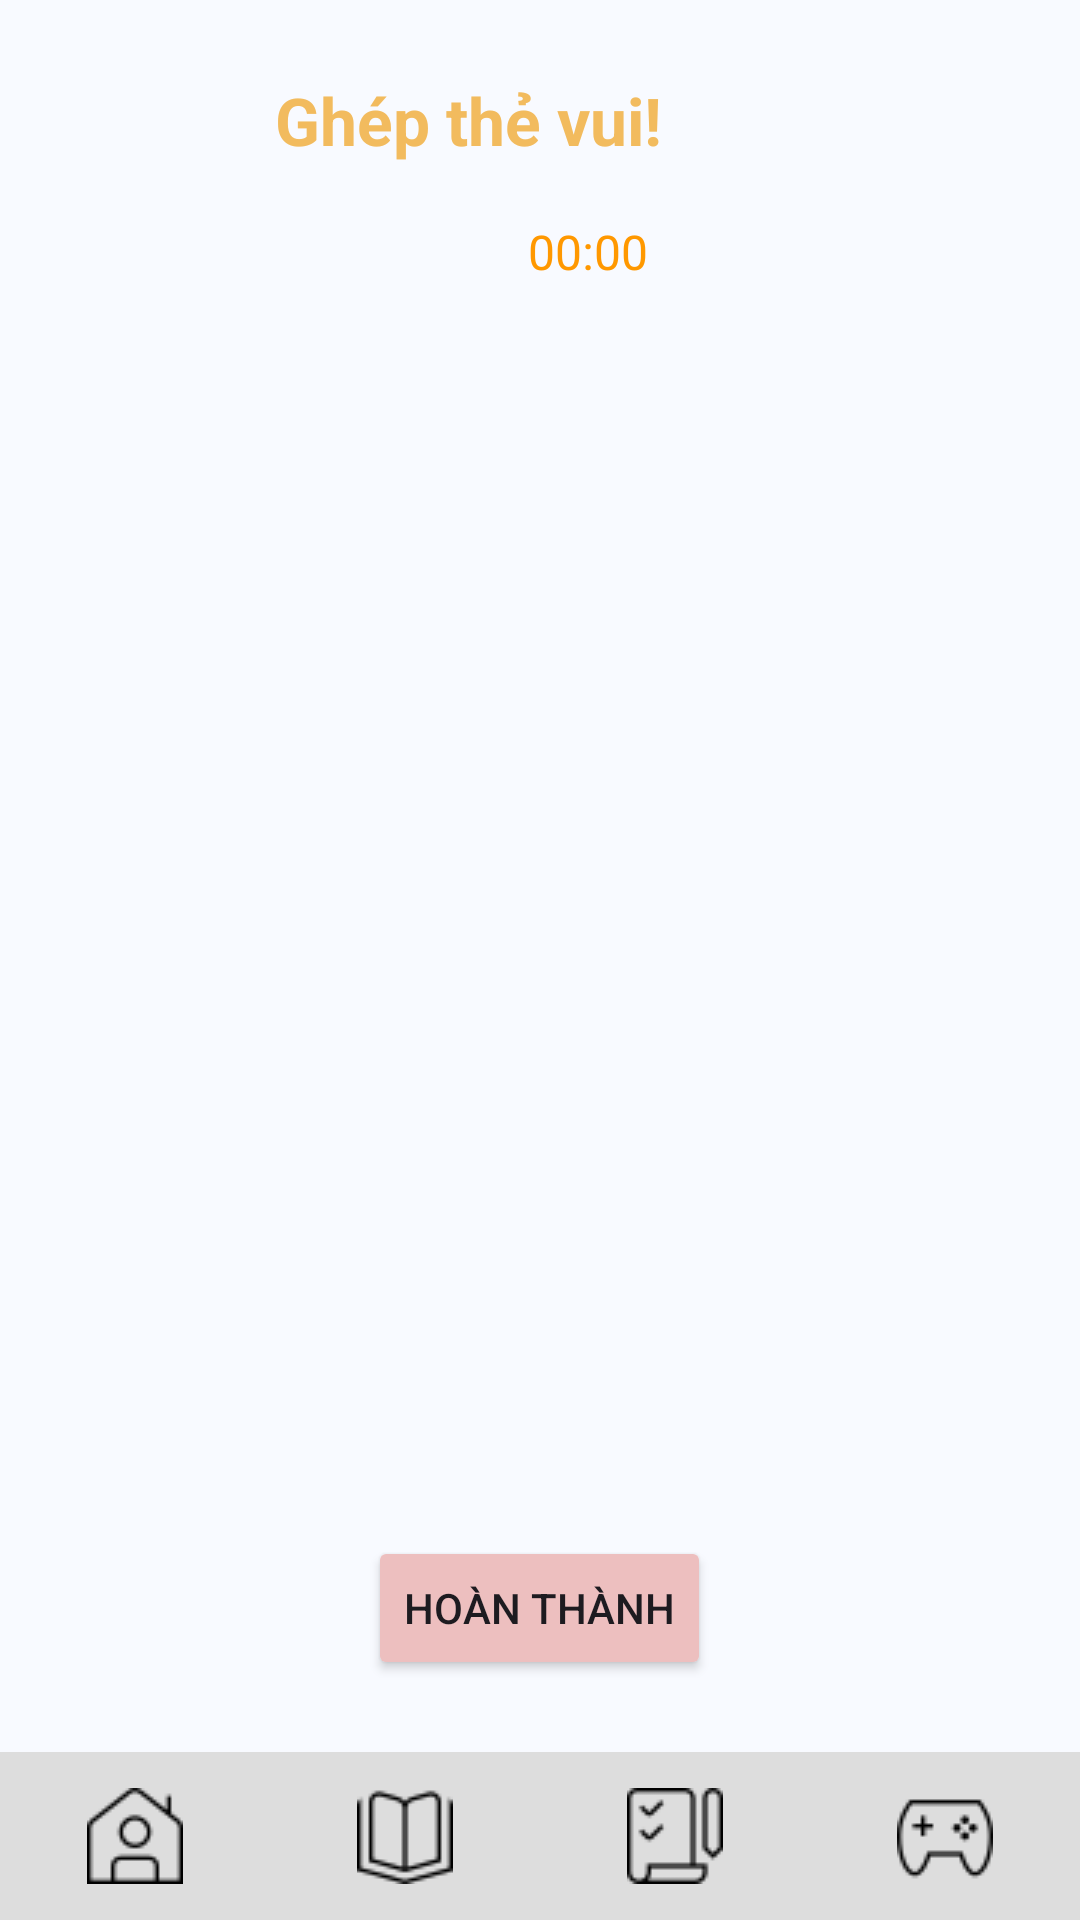

Point at icon controls on the screen. Image size 1080×1920, points as [x,y].
Checklist: [675,1836]
Game: [945,1838]
Home: [135,1836]
Học từ vựng: [405,1837]
